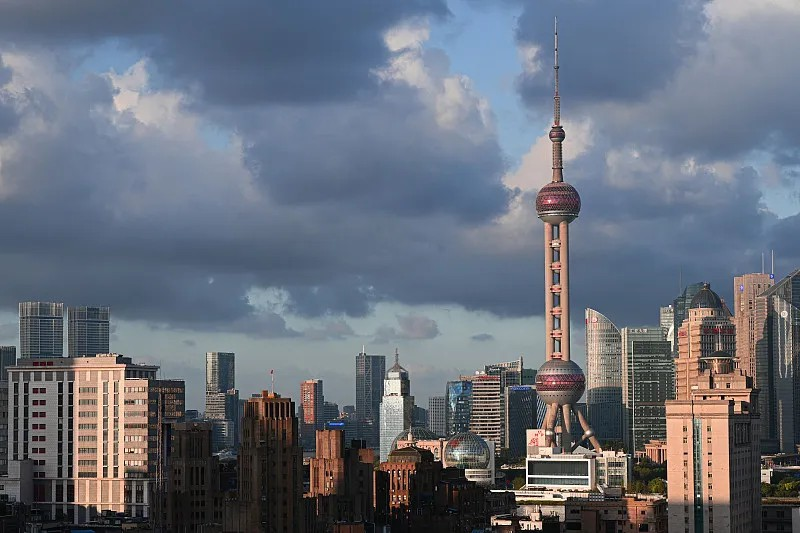Oriental: (535, 15, 601, 456)
